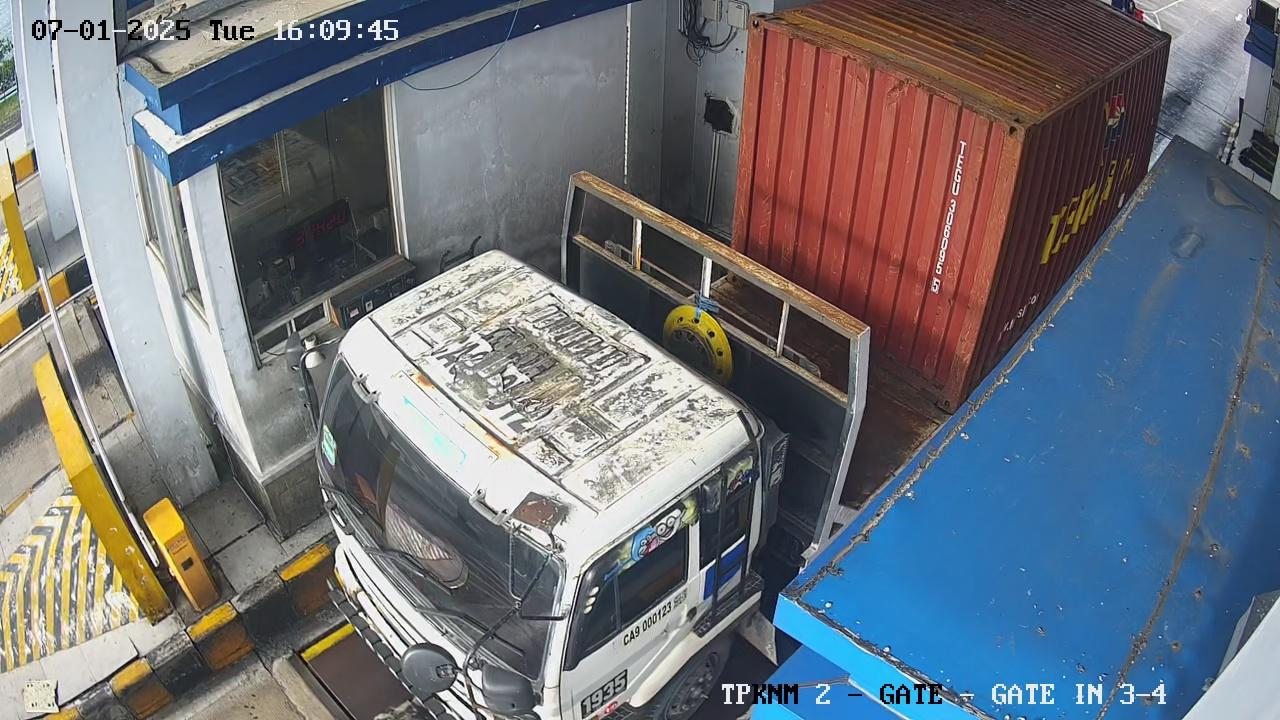Container_ID_Vertikal: (927, 133, 972, 294)
truck_id: (613, 597, 680, 652)
